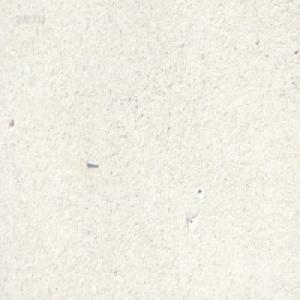Nail: (85, 158, 98, 166)
